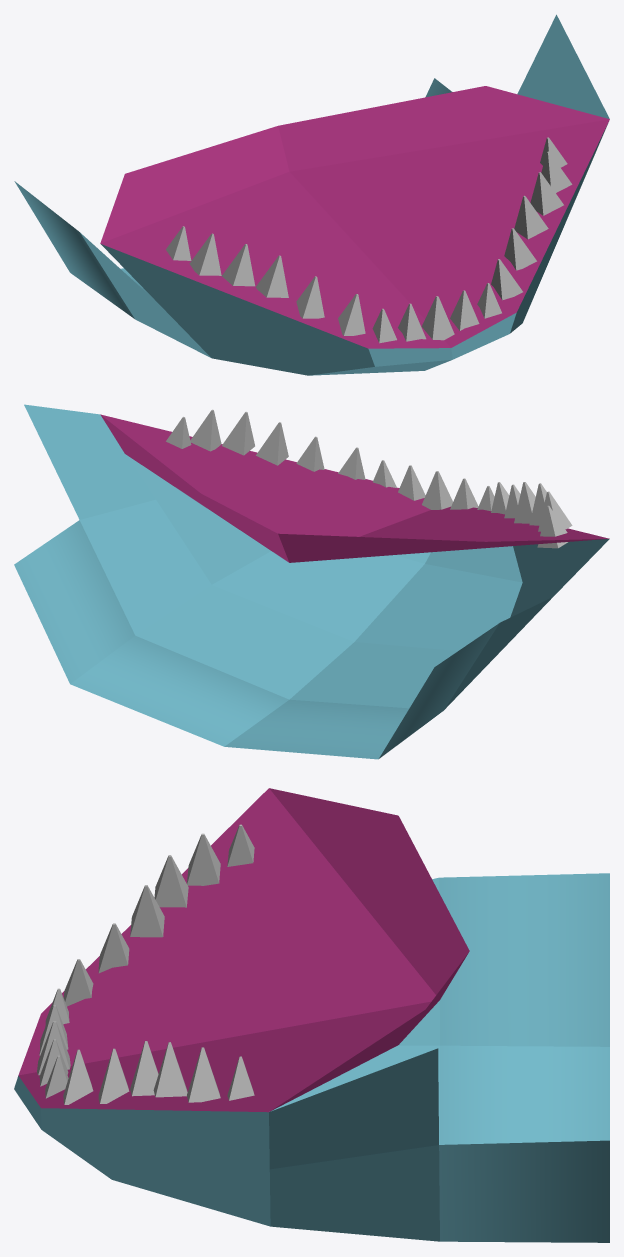
Rendered from shark_jaw.obj.
3 renders of one model, top to bottom at view 1: azimuth 30°, elevation 25°; view 2: azimuth 150°, elevation 25°; view 3: azimuth 270°, elevation 25°, orthographic. The views are drawn at different scales.
Visible parts, largest first — view 1: Cube_Cube.001; view 2: Cube_Cube.001; view 3: Cube_Cube.001.
Boxes of the visible parts, x1,y1,x2,y2 form: Cube_Cube.001: [14, 14, 609, 375]; Cube_Cube.001: [14, 404, 609, 759]; Cube_Cube.001: [14, 788, 609, 1242].
Bounding box in the file's own units: 0.7839 × 0.3301 × 0.5957.
